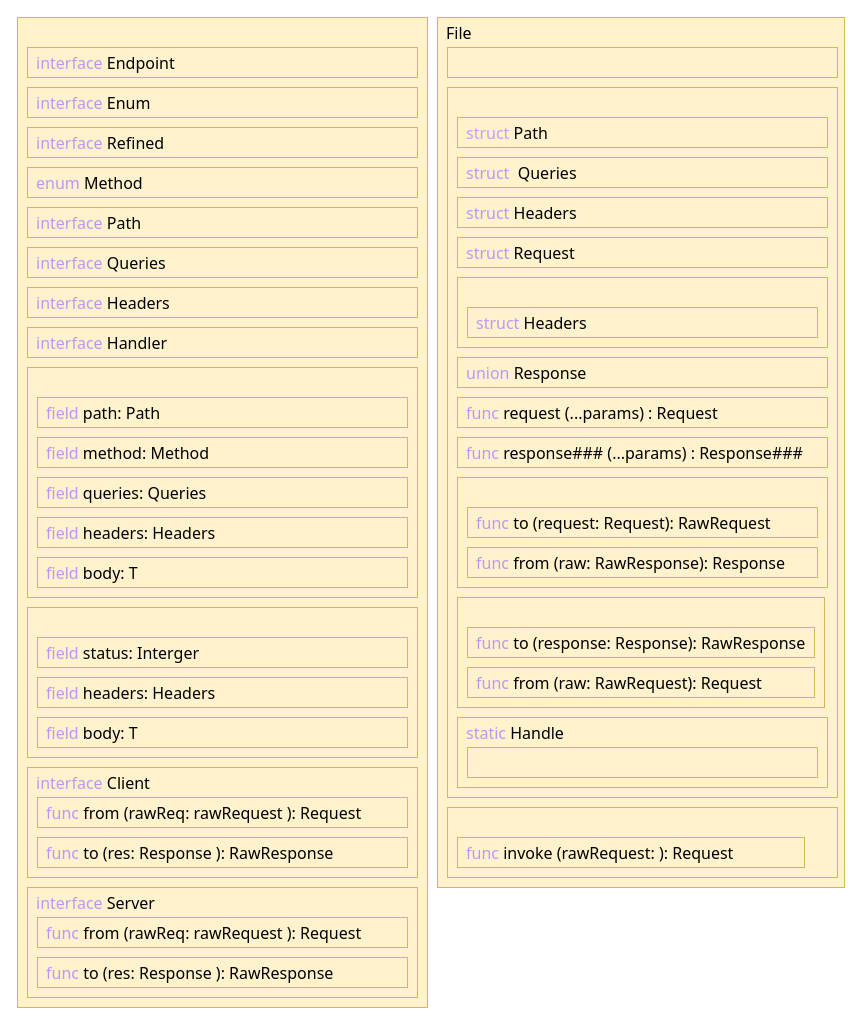
This 862x1025 diagram has some shape labels left out. The box of each missing label's shape, as (x1, y1, x2, y2) in pixels:
func <endpoint> (request:Requste): Response: (466, 746, 818, 778)
func client (serialization: Serialization ): (456, 476, 828, 588)
func server (serialization: Serialization): (456, 596, 824, 708)
interface Request<T>: (26, 366, 418, 598)
interface Response<T>: (26, 606, 418, 758)
Shared: (16, 16, 428, 1008)
static Channel: (446, 806, 838, 878)
static Endpoint: (446, 86, 838, 798)
struct Response###: (456, 276, 828, 348)
struct Type: (446, 46, 838, 78)
